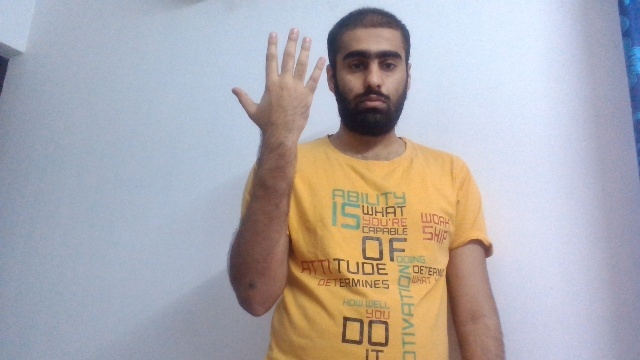paper: (230, 27, 326, 135)
